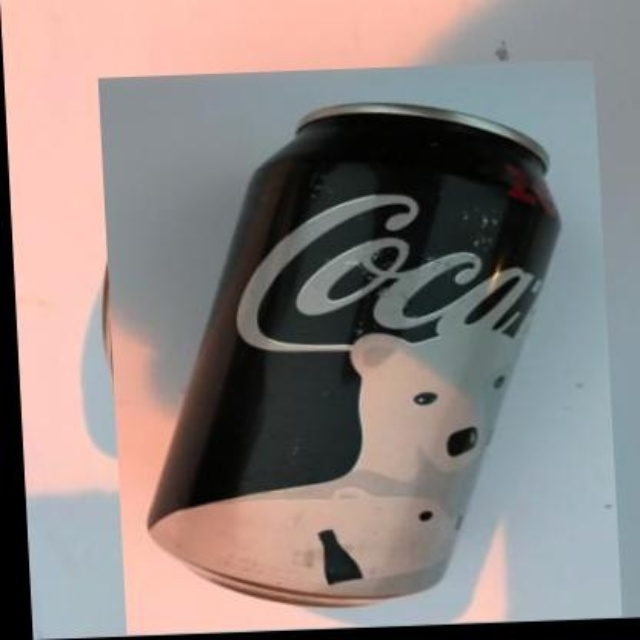trash: (148, 103, 557, 603)
